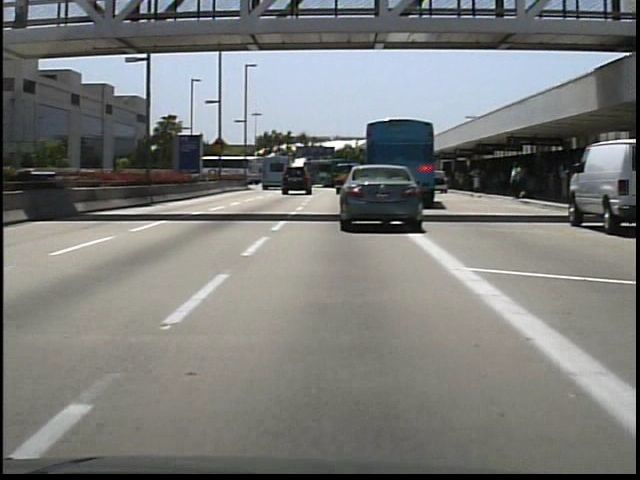person: (510, 159, 528, 201)
